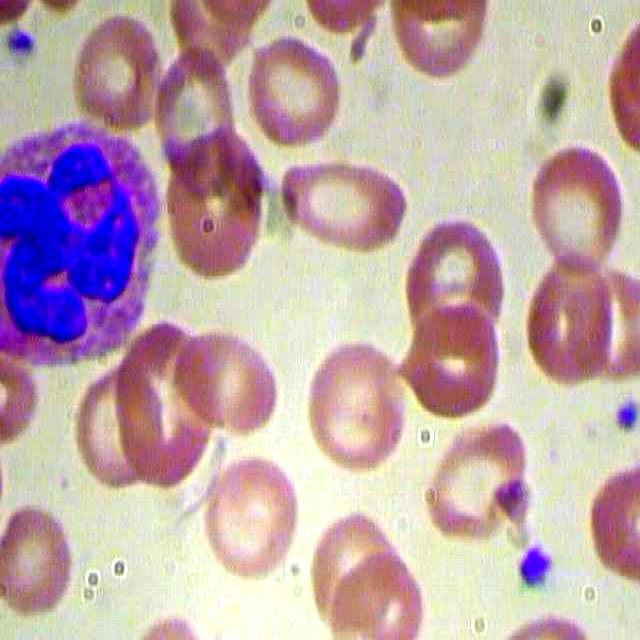Platelets: (513, 540, 559, 595), (4, 17, 40, 56), (611, 398, 640, 438)
RBC: (417, 405, 538, 543), (522, 137, 633, 286), (271, 151, 421, 257), (395, 293, 511, 427), (304, 335, 410, 476), (238, 32, 358, 151), (65, 10, 169, 146), (525, 246, 616, 394), (167, 332, 292, 439), (200, 448, 303, 577), (1, 493, 86, 624), (329, 545, 429, 640)
WBC: (1, 123, 168, 385)
